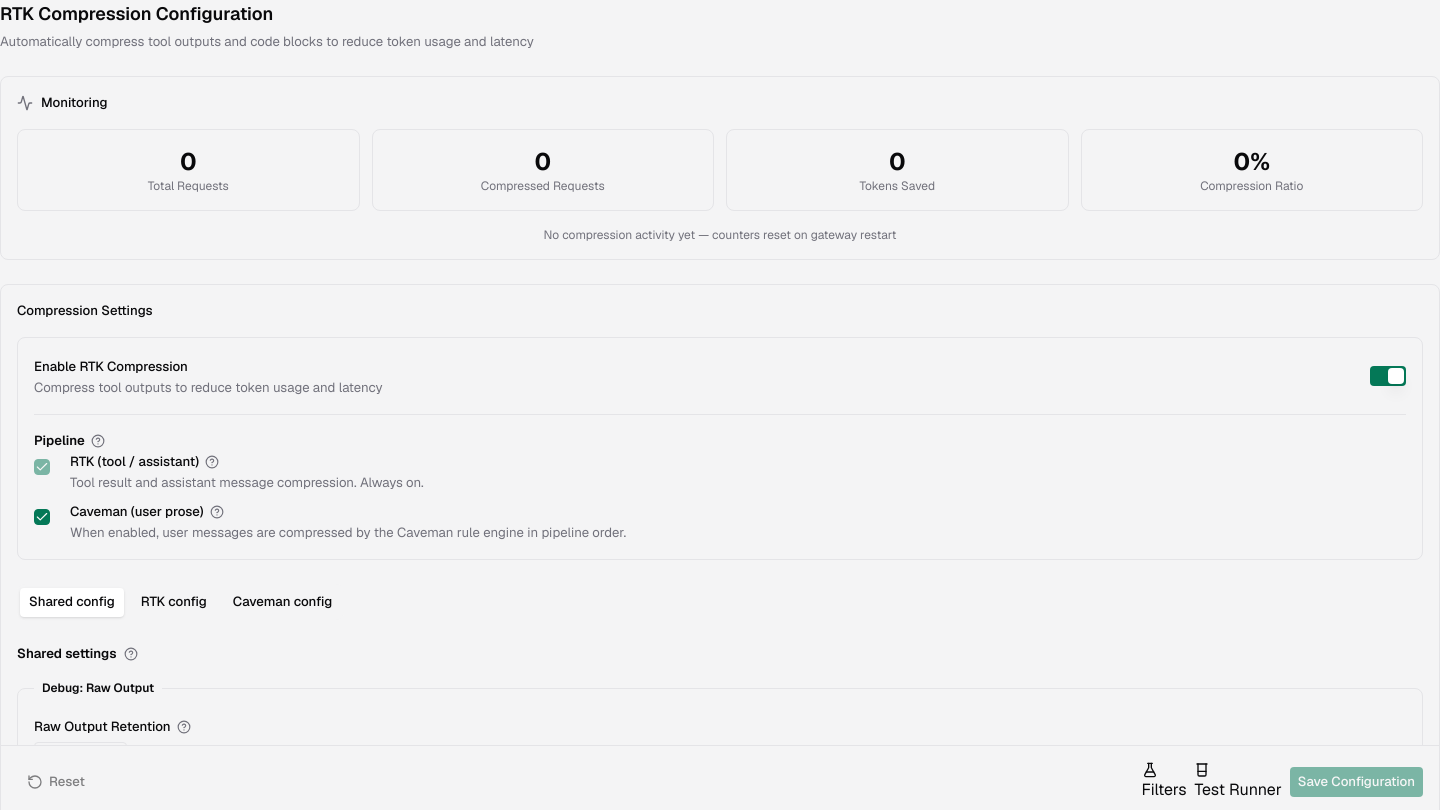
it: RtkFragment — pipeline checkboxes inside the enablement card › shows the Caveman tab only when caveman.enabled is true
Press the mouse on the tab with test id "rtk-tab-caveman": (282, 602) [224,588,341,616]
(page scrolled)
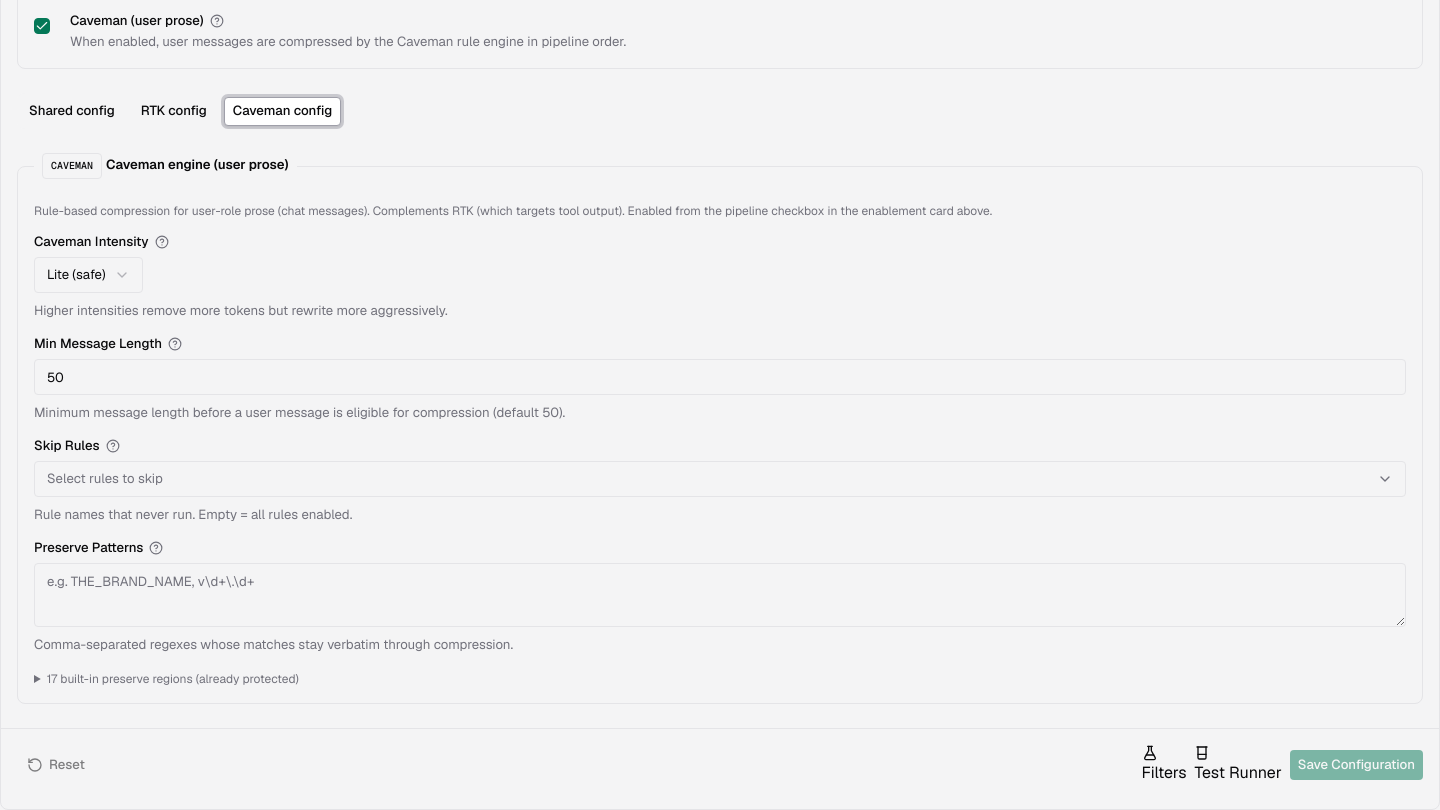
Expected: the element with test id "engine-panel-caveman" is shown
